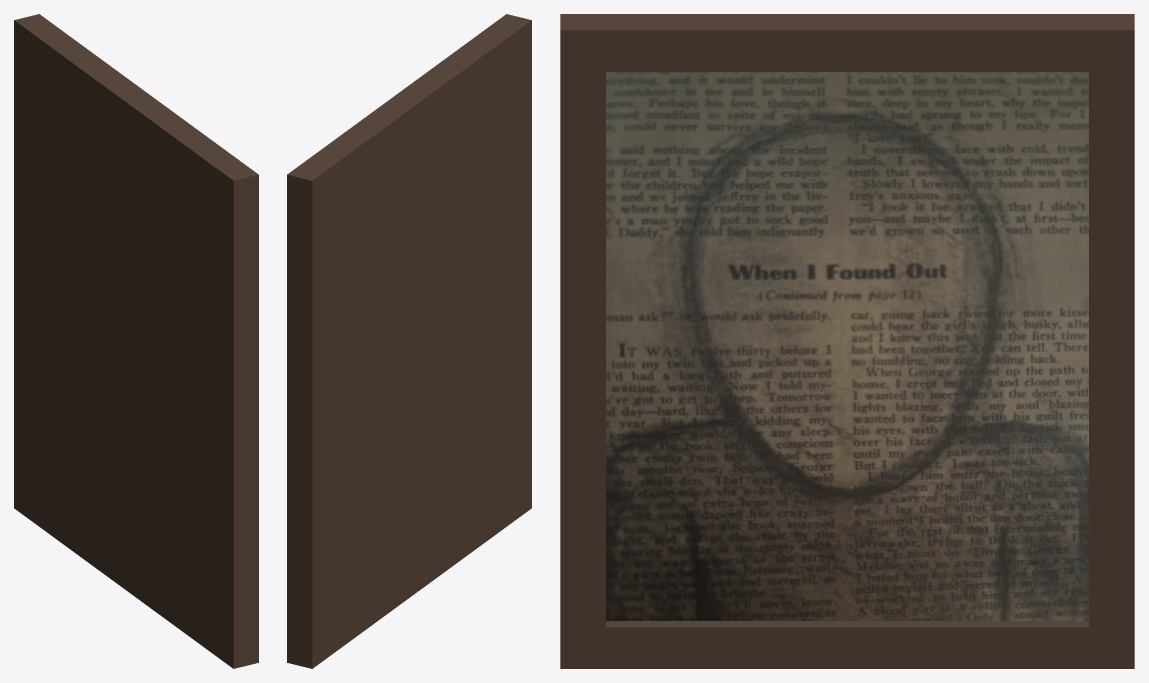
File: frame.glb
3 views of the same model, side by side, from view 1: azimuth 30°, elevation 25°; view 2: azimuth 150°, elevation 25°; view 3: azimuth 270°, elevation 25° (orthographic). The views are drawn at different scales.
Visible parts, largest first — view 1: Cube; view 2: Cube; view 3: Cube.
Boxes of the visible parts, left/top/right/bottom form: Cube: left=14, top=14, right=258, bottom=668; Cube: left=287, top=14, right=531, bottom=668; Cube: left=560, top=14, right=1134, bottom=668.
Size of the model in its own units: 0.05 by 0.92 by 0.75.
2 materials, 1 textured.
